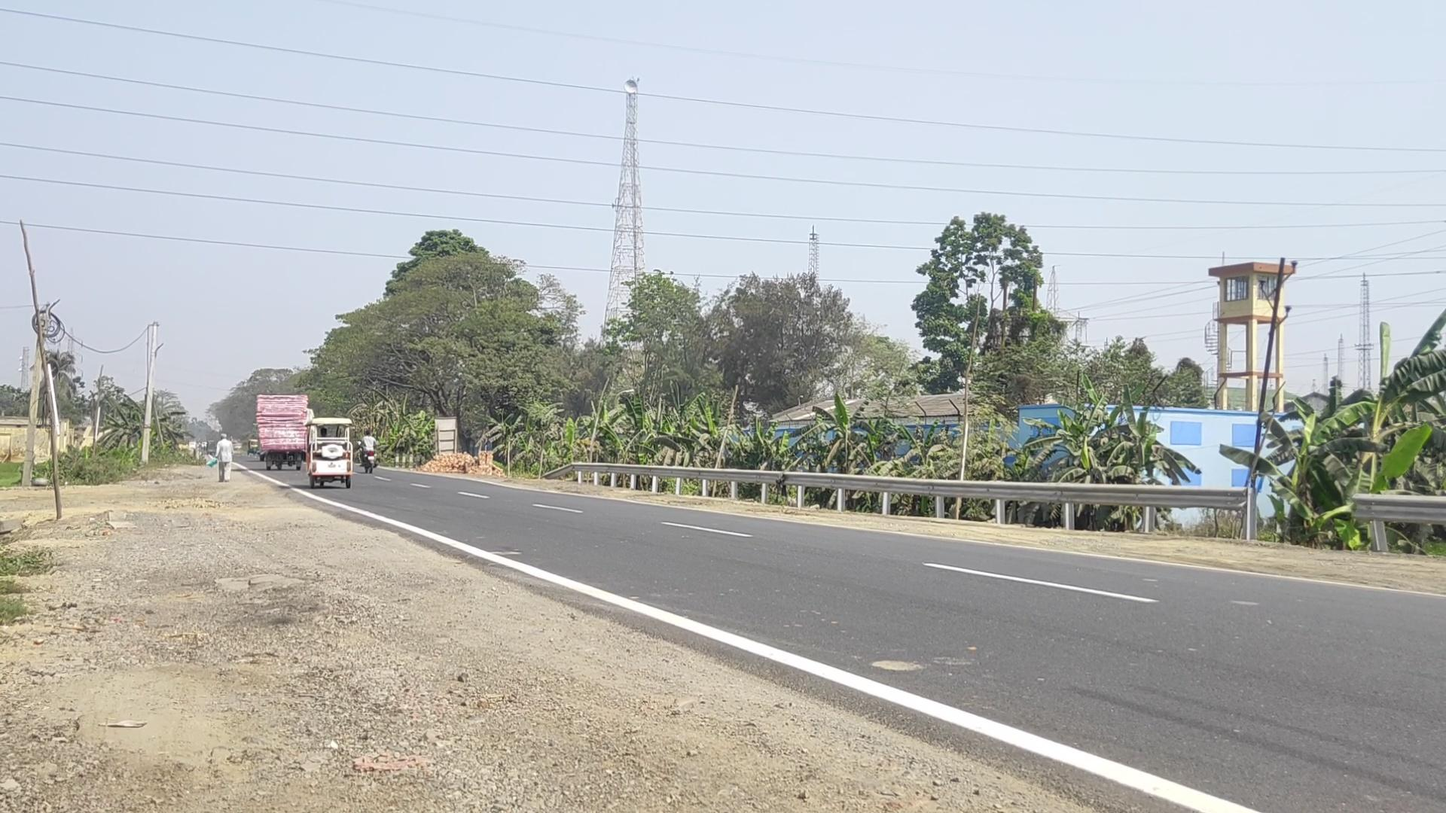Auto: (305, 417, 353, 489), (246, 438, 260, 457)
bike: (357, 431, 380, 474)
